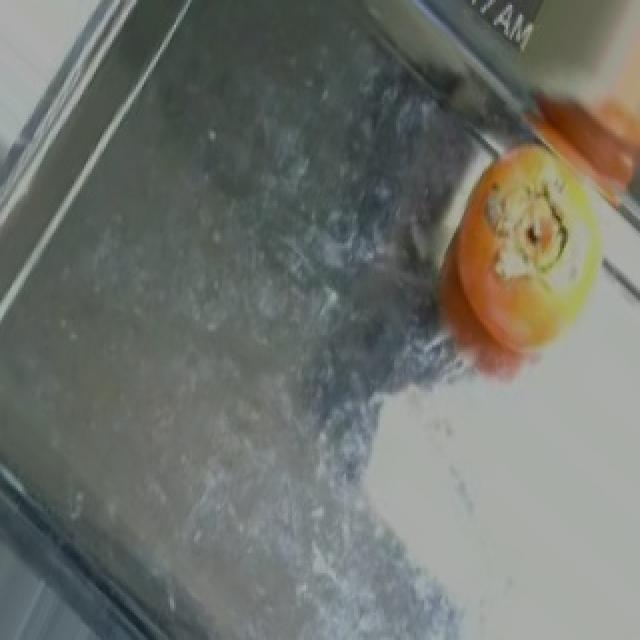Fruit: (406, 129, 588, 414)
